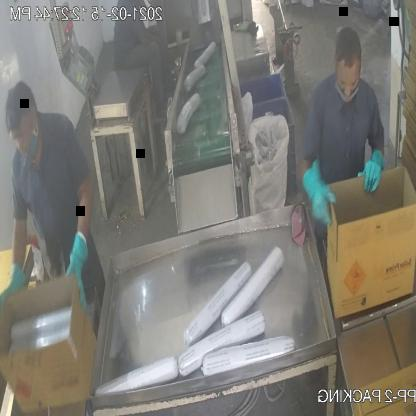glove: (296, 138, 336, 238), (64, 212, 103, 314), (351, 130, 390, 208), (0, 246, 32, 322)
